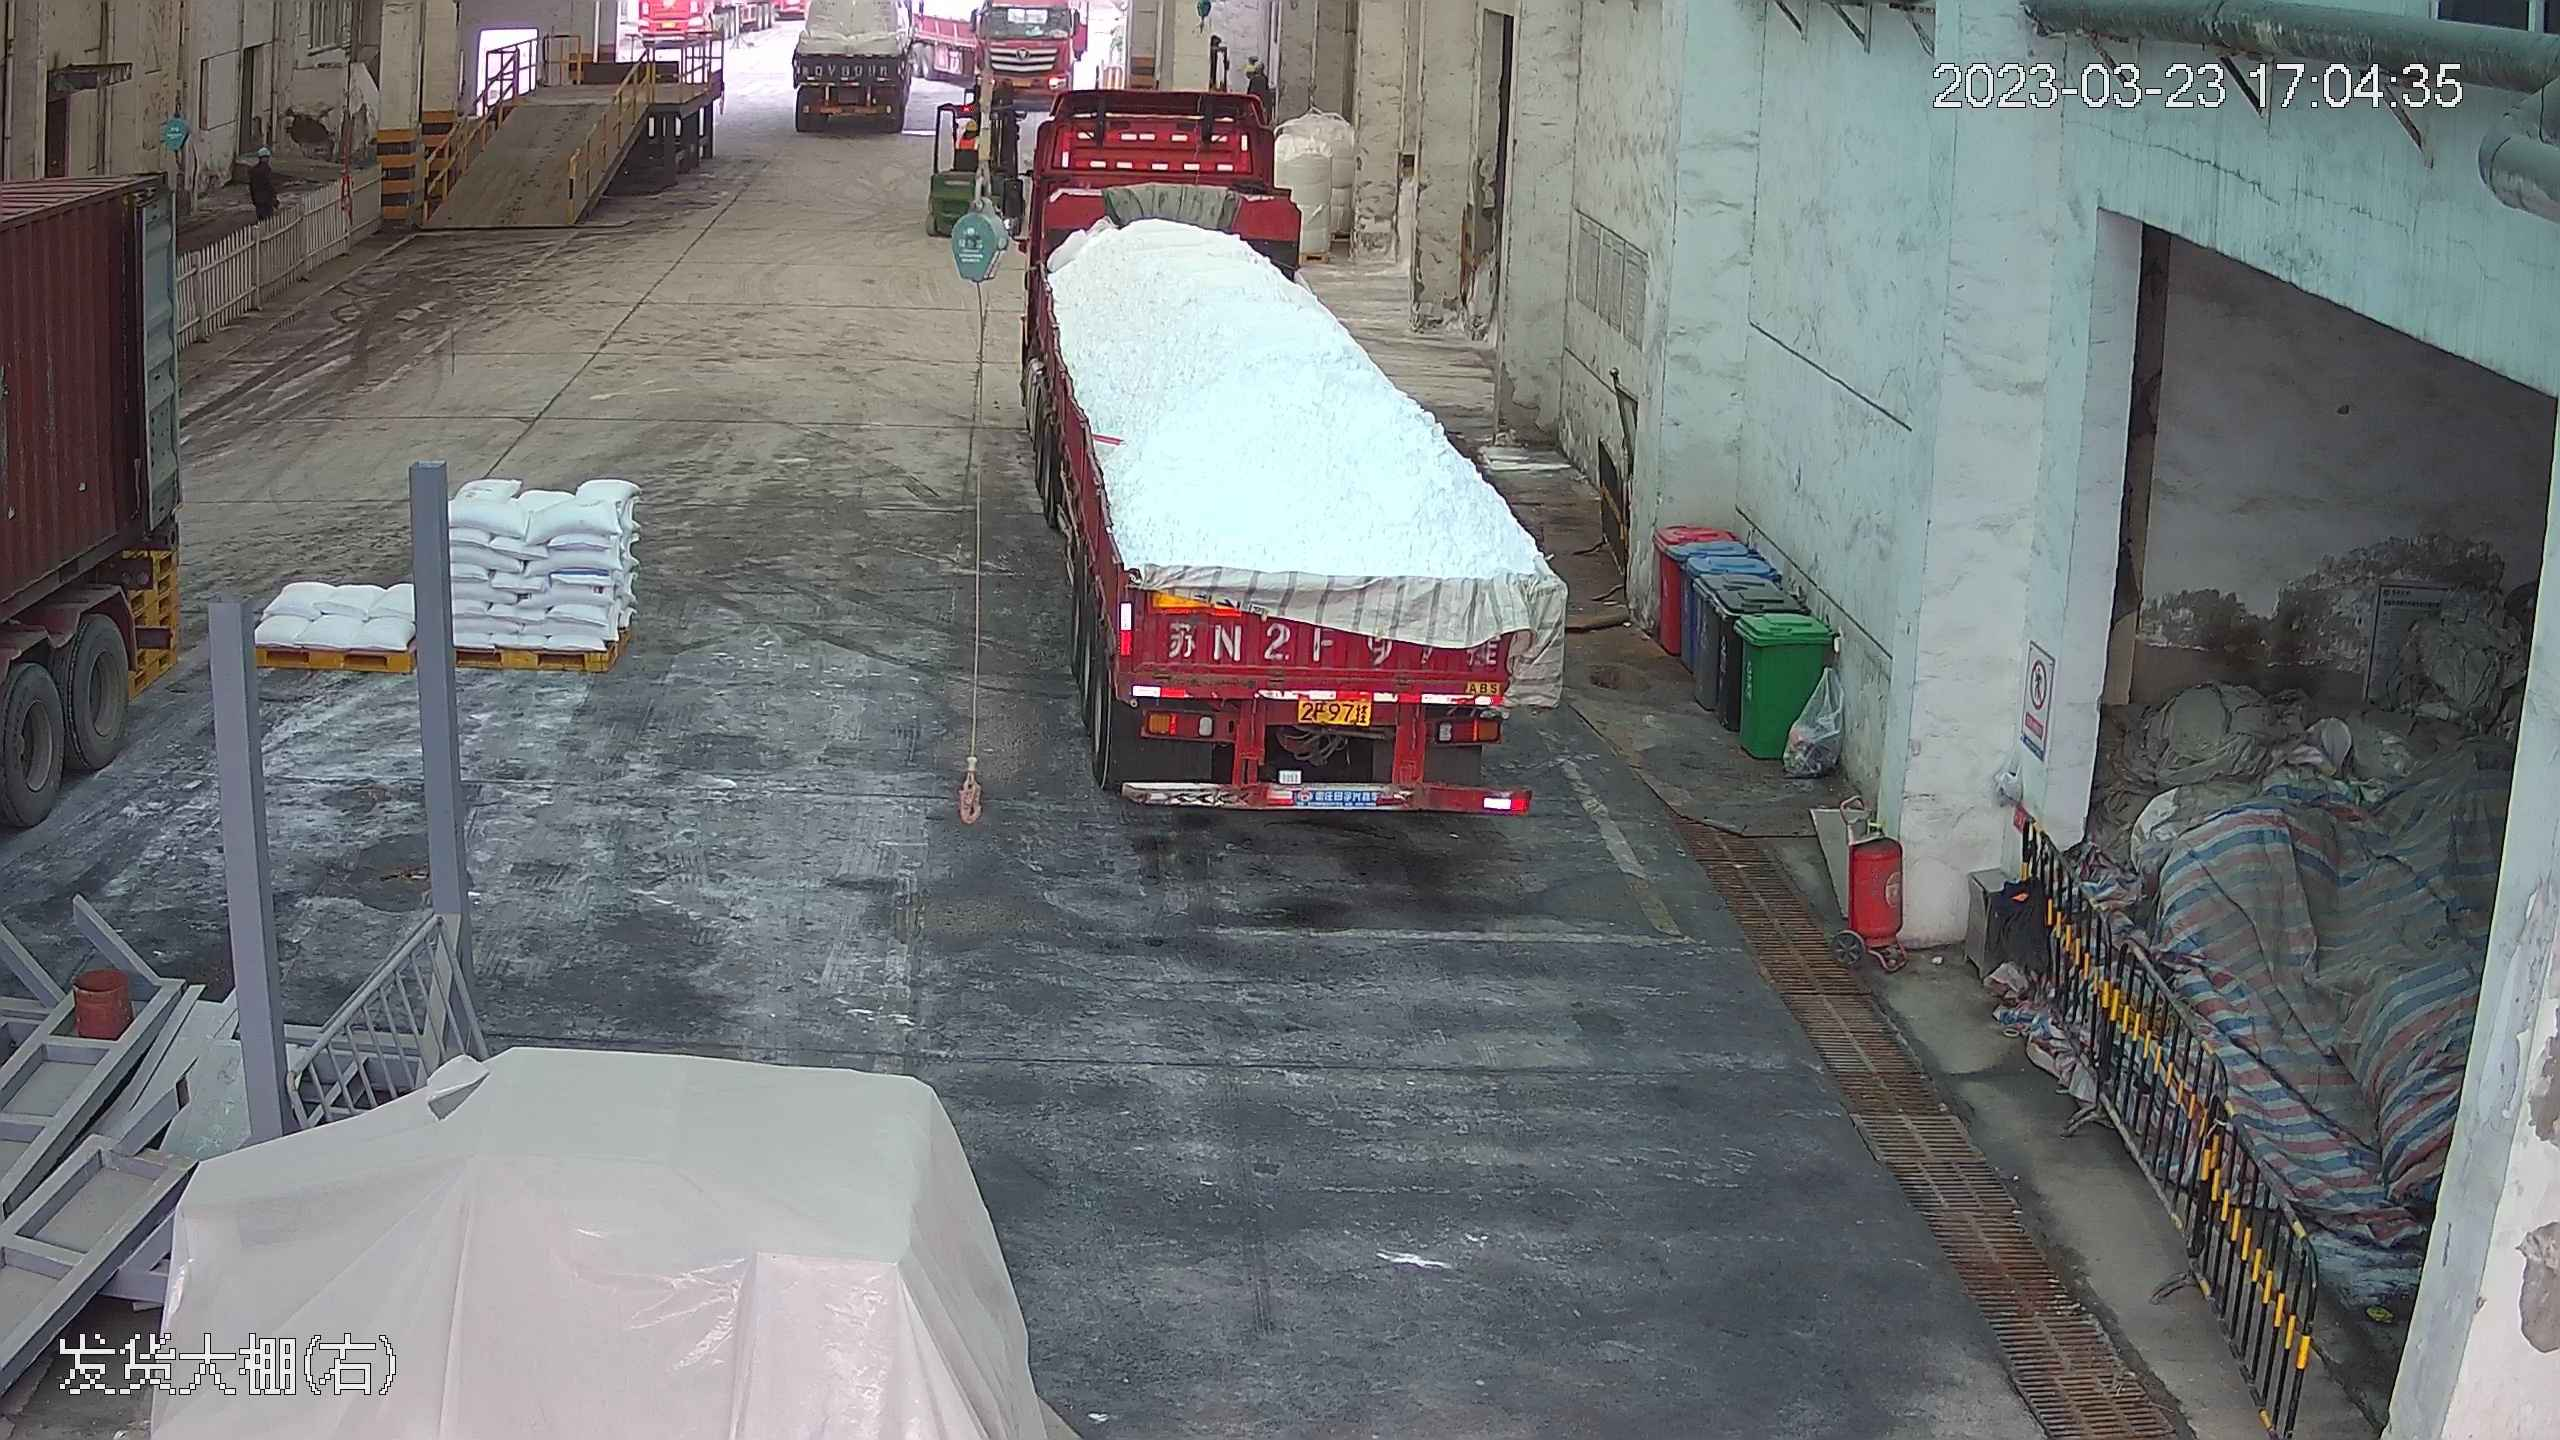head: (247, 147, 279, 186)
helmet: (250, 144, 272, 166)
people: (248, 143, 288, 255)
truck: (998, 39, 1562, 822), (0, 48, 196, 994), (777, 2, 921, 134)
